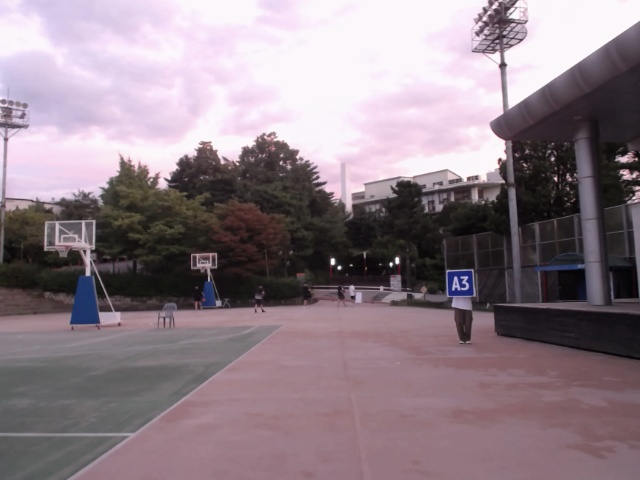delivery_a3: (445, 270, 475, 297)
